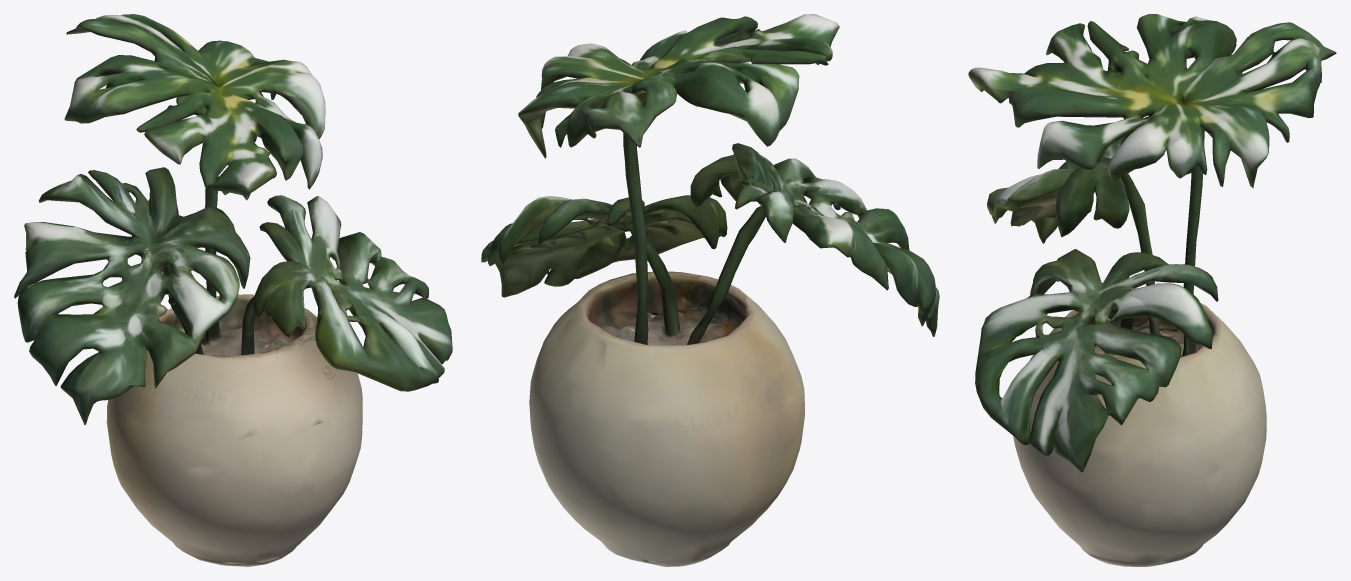
Rendered from Foliage.glb.
3 renders of one model, left to right at view 1: azimuth 30°, elevation 25°; view 2: azimuth 150°, elevation 25°; view 3: azimuth 270°, elevation 25°, orthographic. The views are drawn at different scales.
Bounding box in the file's own units: 1.76 × 2 × 1.37.
1 material, 1 textured.
